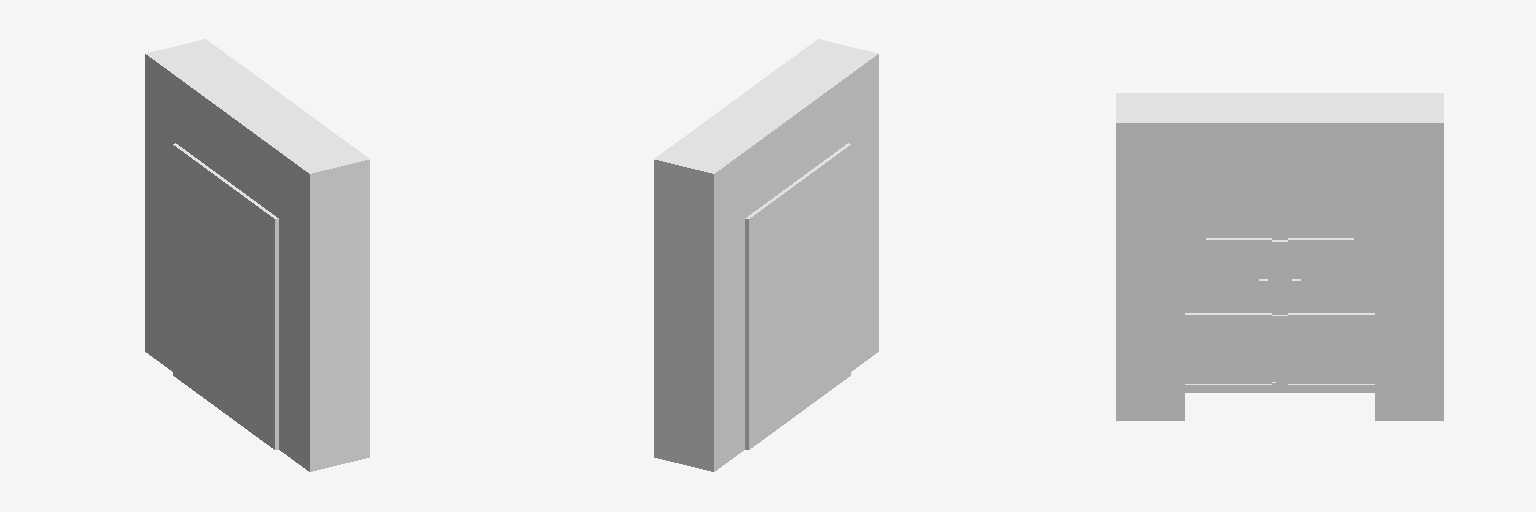
File: decoracao-13.obj
3 renders of one model, left to right at view 1: azimuth 30°, elevation 25°; view 2: azimuth 150°, elevation 25°; view 3: azimuth 270°, elevation 25°, orthographic.
Visible parts, largest first — view 1: object 1; view 2: object 1; view 3: object 1.
Boxes of the visible parts, x1=… form: object 1: x1=145, y1=39, x2=369, y2=471; object 1: x1=654, y1=39, x2=878, y2=471; object 1: x1=1116, y1=93, x2=1443, y2=420.
Bounding box in the file's own units: 1.8 × 8 × 8.